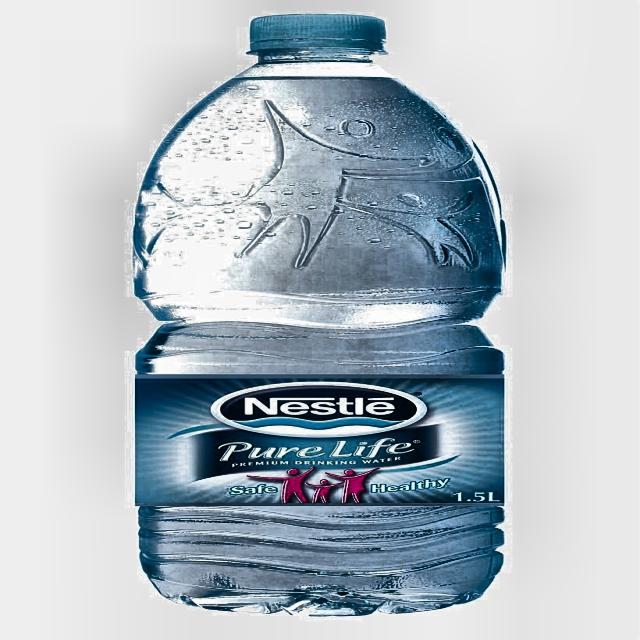plastic bottle: (133, 14, 504, 617)
